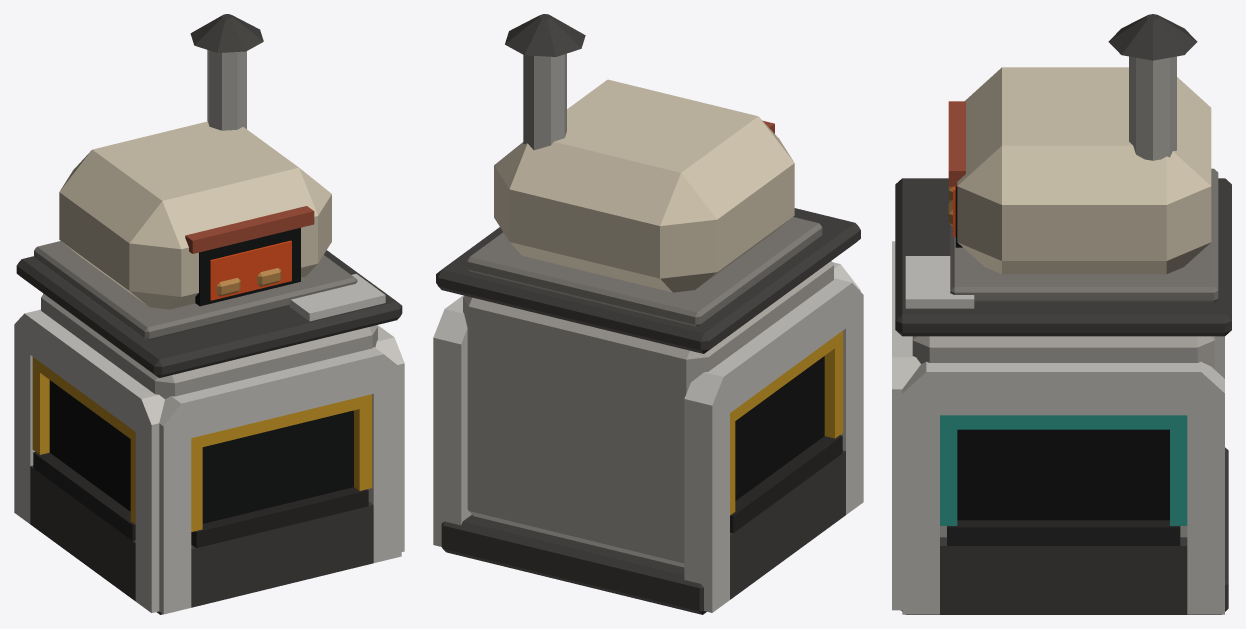
Rendered from oven.fbx.
3 renders of one model, left to right at view 1: azimuth 30°, elevation 25°; view 2: azimuth 150°, elevation 25°; view 3: azimuth 270°, elevation 25°, orthographic. The views are drawn at different scales.
Parts seen in each view (by area): view 1: oven; view 2: oven; view 3: oven.
Part boxes in pixels (x1,y1,x2,y2): oven: (14, 14, 404, 614); oven: (433, 14, 863, 614); oven: (892, 14, 1231, 614).
Bounding box in the file's own units: 3 × 5.43 × 2.97.
